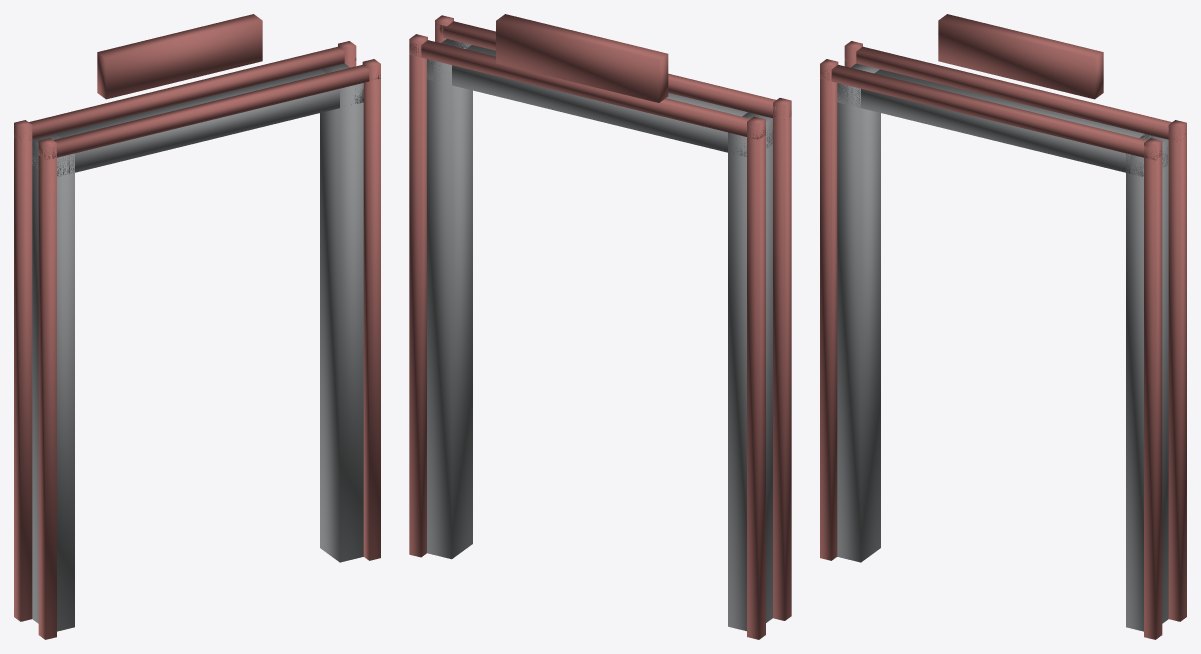
File: doorway_emergency_exit_w122_h200_d16.glb
The picture shows the model from 3 angles, left to right: view 1: azimuth 30°, elevation 25°; view 2: azimuth 150°, elevation 25°; view 3: azimuth 330°, elevation 25°; orthographic projection. The views are drawn at different scales.
Visible parts, largest first — view 1: world; view 2: world; view 3: world.
Boxes of the visible parts, box(x1,y1,x2,y2) form: world: box(14, 14, 380, 639); world: box(409, 14, 791, 639); world: box(820, 14, 1186, 639).
Bounding box in the file's own units: 1.55 × 2.37 × 0.2998.
